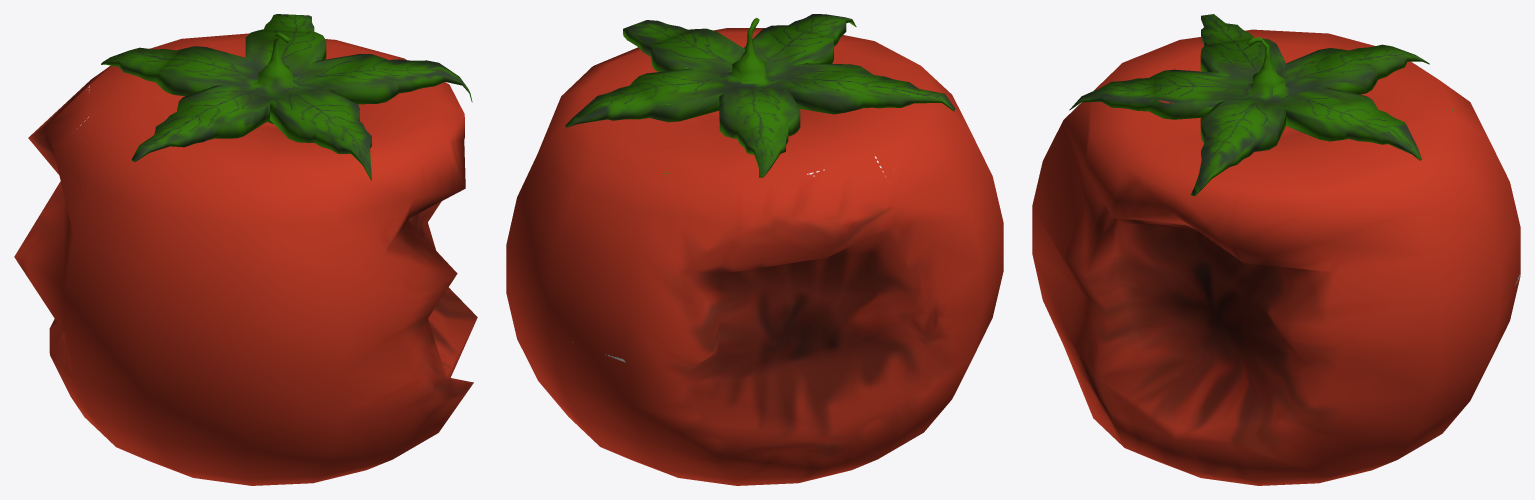
File: TomatoEaten.fbx
3 renders of one model, left to right at view 1: azimuth 30°, elevation 25°; view 2: azimuth 150°, elevation 25°; view 3: azimuth 270°, elevation 25°, orthographic.
Parts seen in each view (by area): view 1: Low Poly.002; view 2: Low Poly.002; view 3: Low Poly.002.
Part boxes in pixels (box(x1,y1,x2,y2)): Low Poly.002: box(14, 14, 477, 485); Low Poly.002: box(506, 14, 1003, 485); Low Poly.002: box(1032, 14, 1520, 485).
Size of the model in its own units: 284 by 268 by 296.
